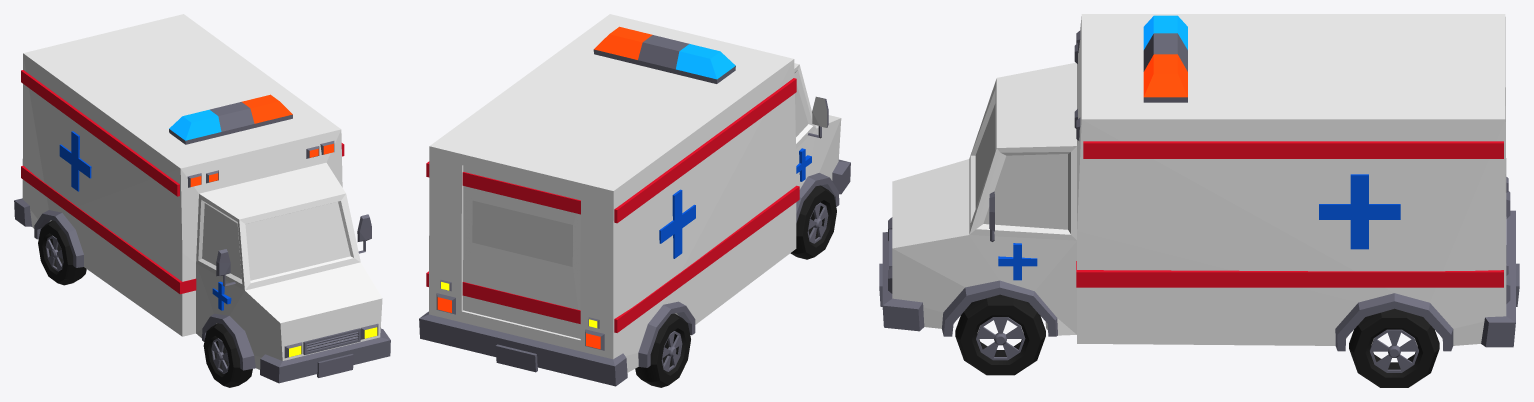
File: Ambulance Low Poly.fbx
3 views of the same model, side by side, from view 1: azimuth 30°, elevation 25°; view 2: azimuth 150°, elevation 25°; view 3: azimuth 270°, elevation 25° (orthographic). The views are drawn at different scales.
Visible parts, largest first — view 1: Ambulance, Front R. Wheel, Back Wheels; view 2: Ambulance, Back Wheels, Front R. Wheel; view 3: Ambulance, Front.L Wheel, Back Wheels.
Part boxes in pixels (<box>): Ambulance: <box>14,14,390,383</box>; Front R. Wheel: <box>203,323,252,387</box>; Back Wheels: <box>38,220,86,285</box>; Ambulance: <box>419,14,850,386</box>; Back Wheels: <box>635,313,690,387</box>; Front R. Wheel: <box>790,185,836,259</box>; Ambulance: <box>879,14,1519,351</box>; Front.L Wheel: <box>955,294,1045,375</box>; Back Wheels: <box>1349,308,1439,387</box>.
Bounding box in the file's own units: 707 × 782 × 1578.
